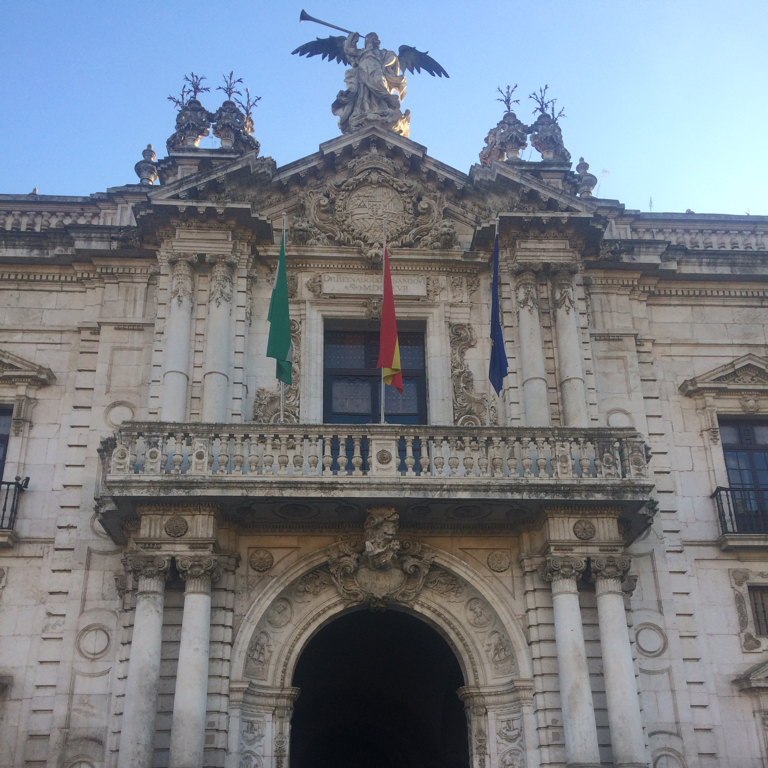arco-medio-punto: (273, 596, 493, 732)
fronton: (684, 350, 768, 391)
fronton-partido: (143, 120, 600, 231)
vano-adintelado: (293, 296, 463, 480), (712, 403, 768, 539)
